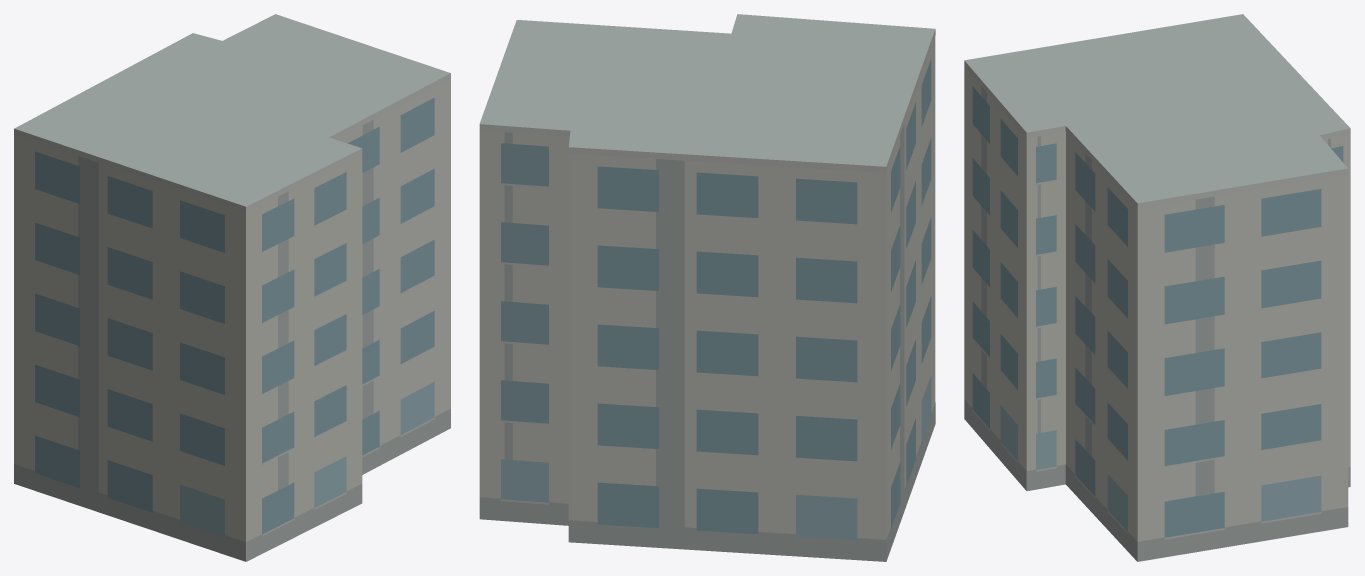
Rendered from survey-upis-32866119.glb.
The picture shows the model from 3 angles, left to right: view 1: azimuth 30°, elevation 25°; view 2: azimuth 150°, elevation 25°; view 3: azimuth 270°, elevation 25°; orthographic projection. The views are drawn at different scales.
Parts seen in each view (by area): view 1: survey-upis-32866119.tmp; view 2: survey-upis-32866119.tmp; view 3: survey-upis-32866119.tmp.
Part boxes in pixels (x1,y1,x2,y2): survey-upis-32866119.tmp: (14,14,450,561); survey-upis-32866119.tmp: (479,14,935,561); survey-upis-32866119.tmp: (964,14,1350,561).
Bounding box in the file's own units: 17.04 × 15.03 × 14.69.
